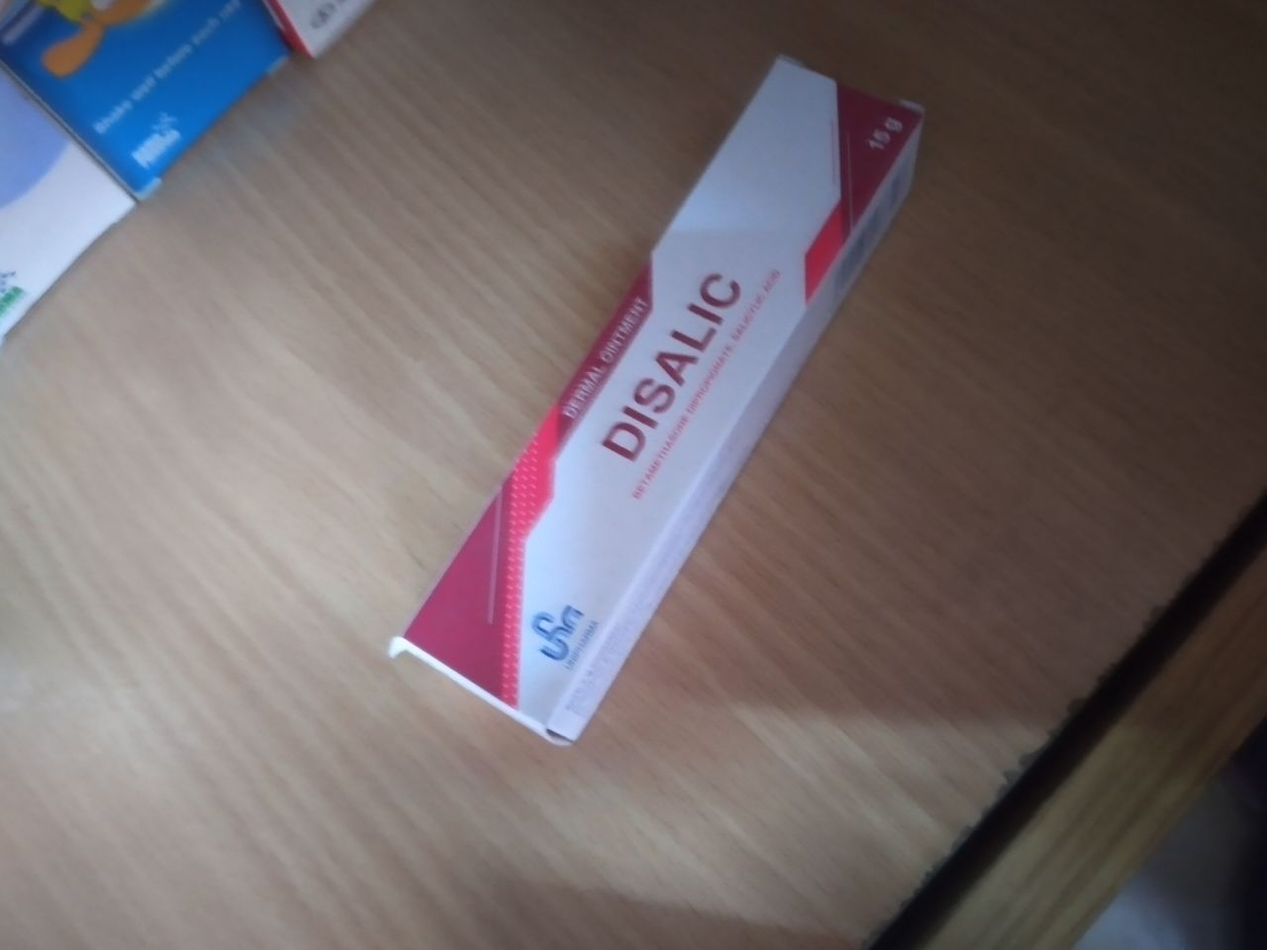Medicine: (369, 49, 953, 789)
